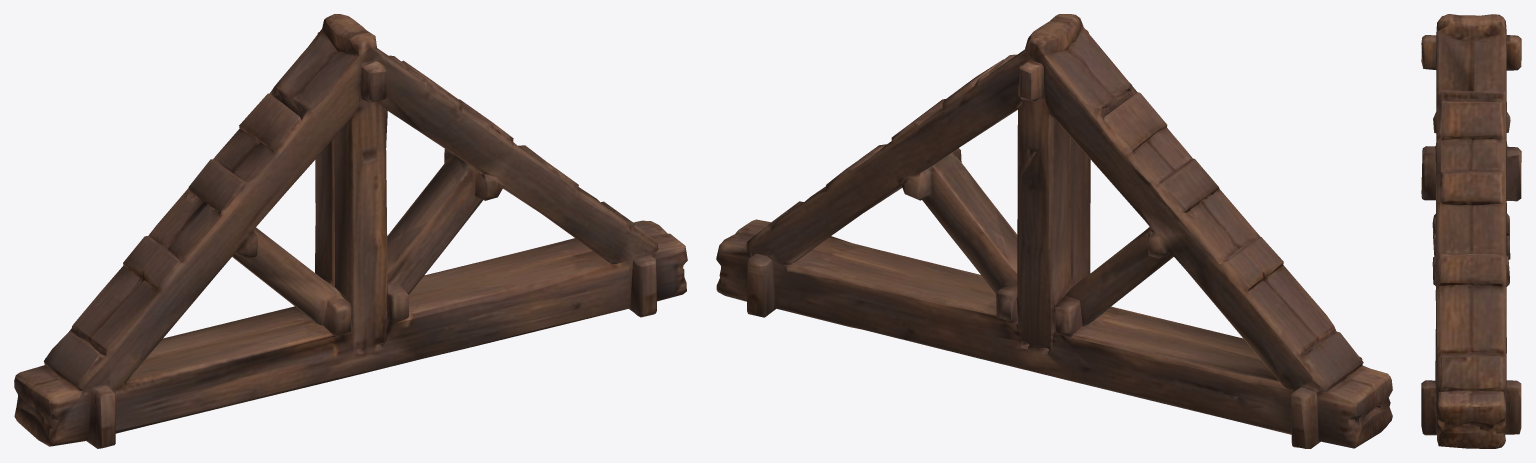
3 views of the same model, side by side, from view 1: azimuth 30°, elevation 25°; view 2: azimuth 150°, elevation 25°; view 3: azimuth 270°, elevation 25° (orthographic). The views are drawn at different scales.
Visible parts, largest first — view 1: geometry_0; view 2: geometry_0; view 3: geometry_0.
Boxes of the visible parts, left/top/right/bottom form: geometry_0: left=14, top=14, right=687, bottom=448; geometry_0: left=716, top=14, right=1392, bottom=448; geometry_0: left=1421, top=14, right=1521, bottom=448.
Bounding box in the file's own units: 1.2 × 0.6054 × 0.1841.
Materials: 1 (1 with a texture image).
